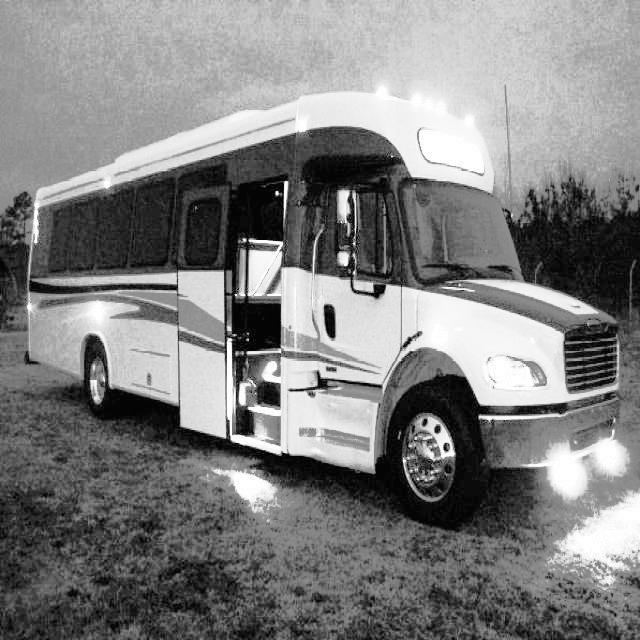Bus: (28, 112, 633, 540)
